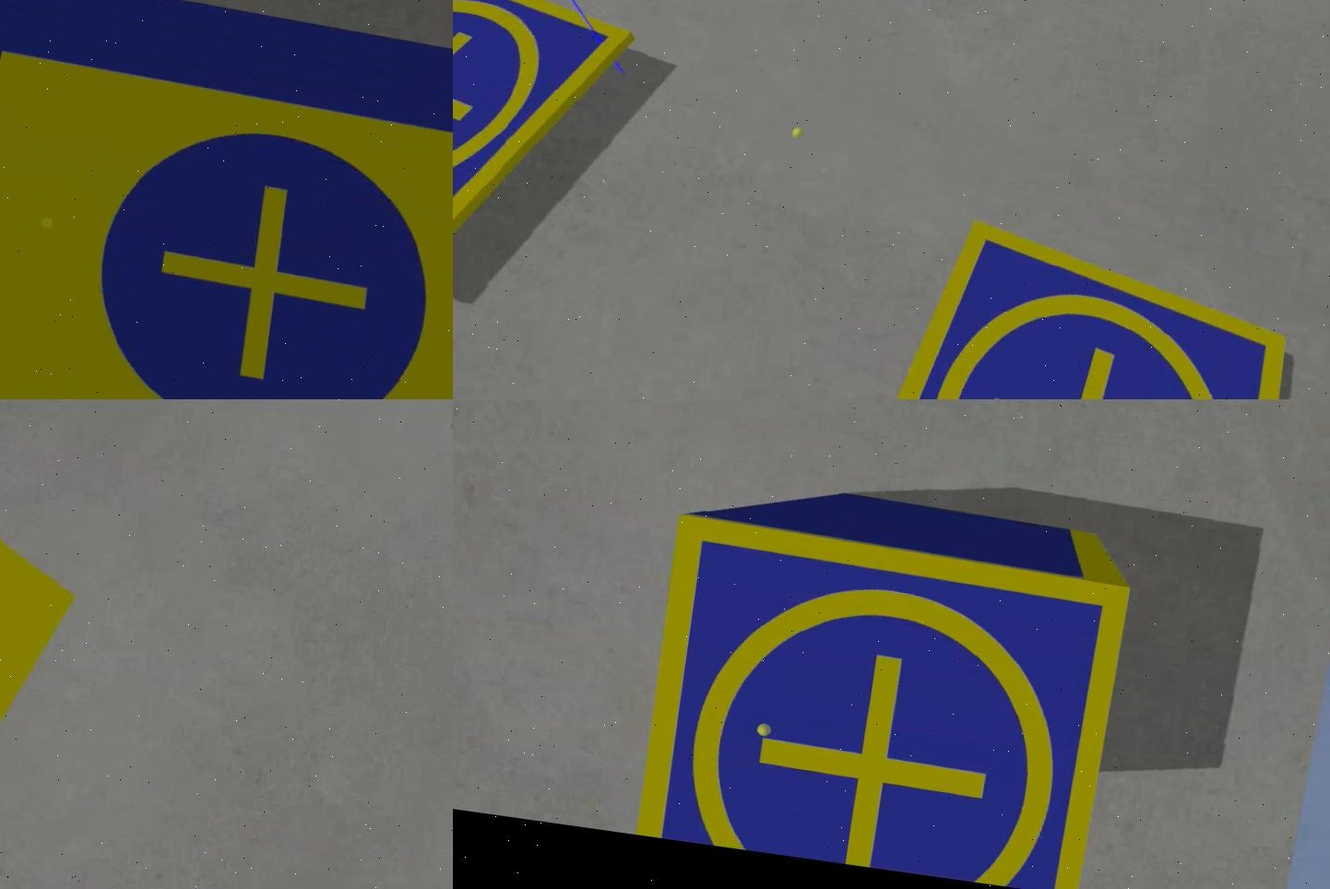large_base: (0, 1, 452, 400)
small_base: (627, 510, 1133, 889), (866, 210, 1301, 400), (452, 1, 643, 304)
